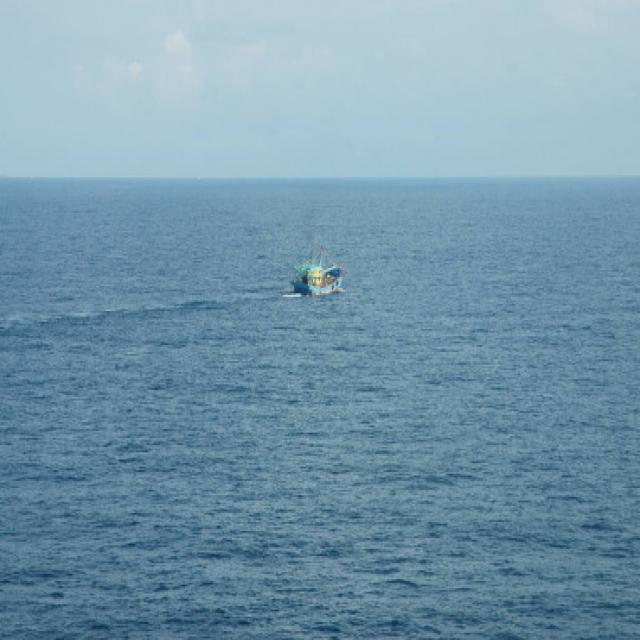fishing boat: (285, 241, 350, 299)
